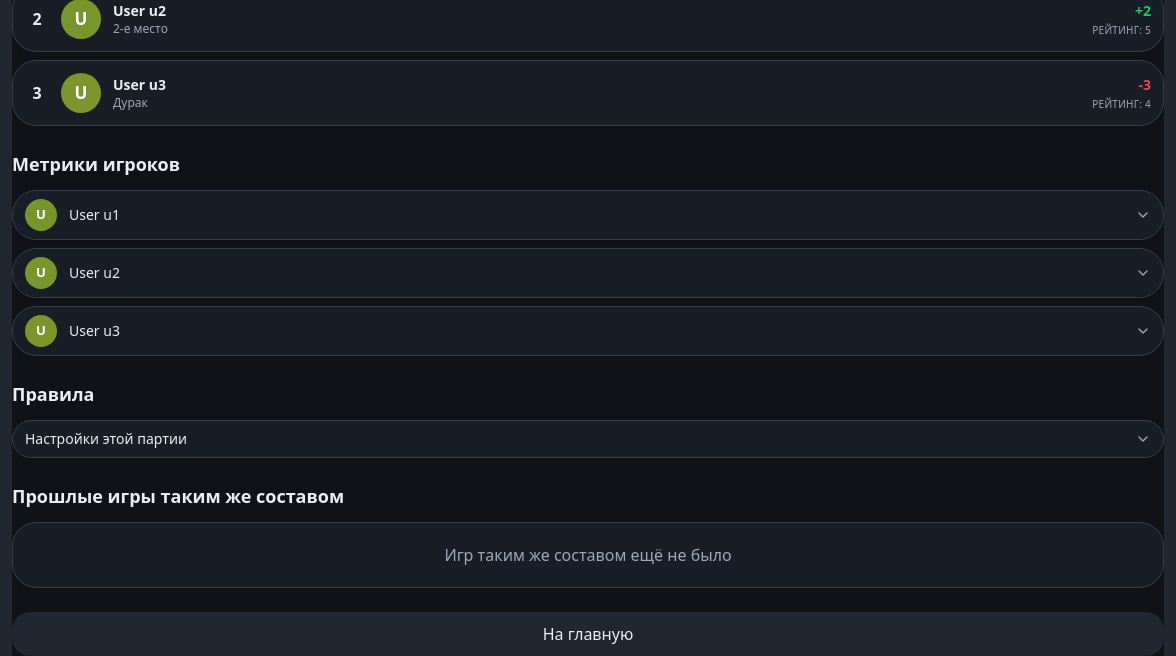
Test: GameDetailView smoke › renders rules toggle and expands when clicked
(page scrolled)
Click the button with test id "rules-toggle". click: (106, 438)
box: [13,421,1163,457]
(page scrolled)
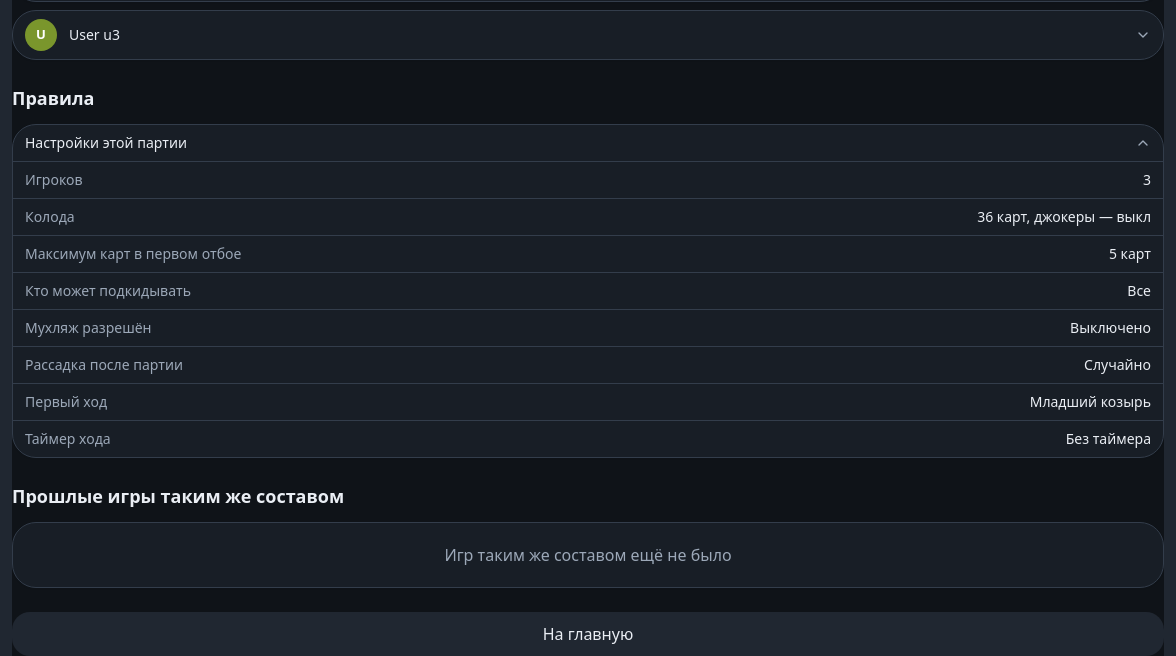
Now the text "Первый ход" is shown, box [25,392,107,412]
